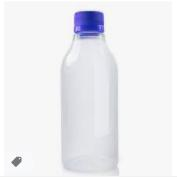bottle: (57, 5, 126, 176)
